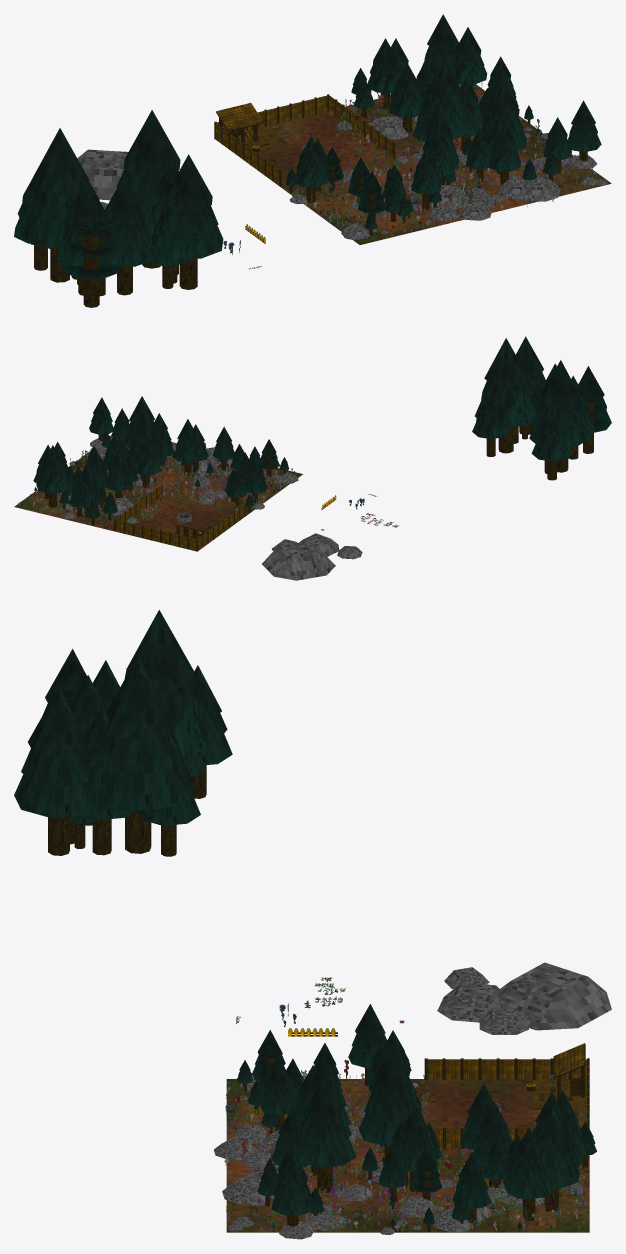
The model's file is FOREST_5.glb.
3 renders of one model, top to bottom at view 1: azimuth 30°, elevation 25°; view 2: azimuth 150°, elevation 25°; view 3: azimuth 270°, elevation 25°, orthographic. The views are drawn at different scales.
Parts seen in each view (by area): view 1: GROUND-col, TREE.008-col (×4), TREE-col (×5), TREE.013-col (×3), TREE.014-col (×4), TREE.006-col (×4), ROCKS.003-col (×6), TREE.001-col (×4), TREE.004-col (×3), TREE.003-col (×2), FENCE.001-col, FENCE.003-col (+5 smaller); view 2: GROUND-col, TREE.013-col (×5), TREE.008-col (×3), TREE-col (×4), ROCKS.003-col, TREE.003-col (×2), TREE.006-col (×2), TREE.005-col (×2), TREE.001-col (×3), FENCE.001-col, TREE.014-col (×2), FENCE.003-col (+3 smaller); view 3: GROUND-col, TREE.008-col (×4), TREE.013-col (×3), TREE-col (×2), ROCKS.003-col (×2), TREE.014-col (×4), TREE.004-col (×2), TREE.005-col (×2), TREE.003-col, FENCE.003-col, TREE.006-col (×2), ROCKS.001-col (+3 smaller).
Boxes of the visible parts, box(x1,y1,x2,y2) form: GROUND-col: box(215, 83, 611, 244); TREE.008-col (×4): box(116, 60, 526, 268); TREE-col (×5): box(154, 38, 459, 289); TREE.013-col (×3): box(18, 14, 601, 282); TREE.014-col (×4): box(105, 27, 571, 295); TREE.006-col (×4): box(61, 147, 385, 307); ROCKS.003-col (×6): box(77, 116, 560, 220); TREE.001-col (×4): box(56, 38, 491, 295); TREE.004-col (×3): box(149, 77, 483, 274); TREE.003-col (×2): box(14, 125, 455, 270); FENCE.001-col: box(216, 95, 327, 132); FENCE.003-col: box(215, 123, 279, 185); GROUND-col: box(14, 436, 302, 551); TREE.013-col (×5): box(36, 360, 590, 507); TREE.008-col (×3): box(124, 338, 536, 480); TREE-col (×4): box(76, 336, 545, 518); ROCKS.003-col: box(262, 541, 335, 580); TREE.003-col (×2): box(192, 402, 572, 480); TREE.006-col (×2): box(259, 366, 611, 478); TREE.005-col (×2): box(212, 385, 509, 470); TREE.001-col (×3): box(106, 375, 594, 498); FENCE.001-col: box(116, 519, 196, 550); TREE.014-col (×2): box(89, 408, 129, 489); FENCE.003-col: box(198, 505, 244, 550); GROUND-col: box(226, 1079, 589, 1232); TREE.008-col (×4): box(105, 656, 421, 1193); TREE.013-col (×3): box(124, 610, 579, 1226); TREE-col (×2): box(14, 687, 387, 1086); ROCKS.003-col (×2): box(222, 962, 611, 1205); TREE.014-col (×4): box(70, 675, 553, 1221); TREE.004-col (×2): box(78, 706, 438, 1191); TREE.005-col (×2): box(138, 732, 296, 1131); TREE.003-col: box(190, 665, 232, 798); FENCE.003-col: box(427, 1059, 587, 1079); TREE.006-col (×2): box(42, 649, 442, 1200); ROCKS.001-col: box(437, 982, 500, 1022).
Size of what is drawn, in the model's own units: 299 by 104 by 198.
15 materials, 15 textured.
